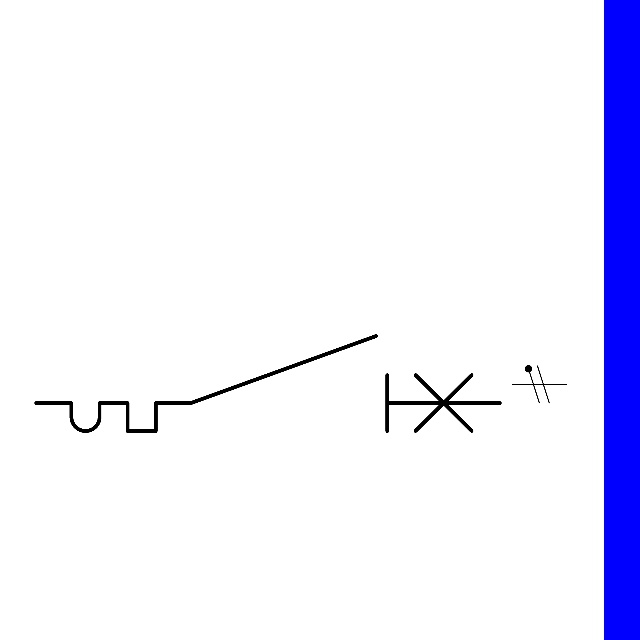interruptor_termomagnetico: (24, 324, 511, 443)
